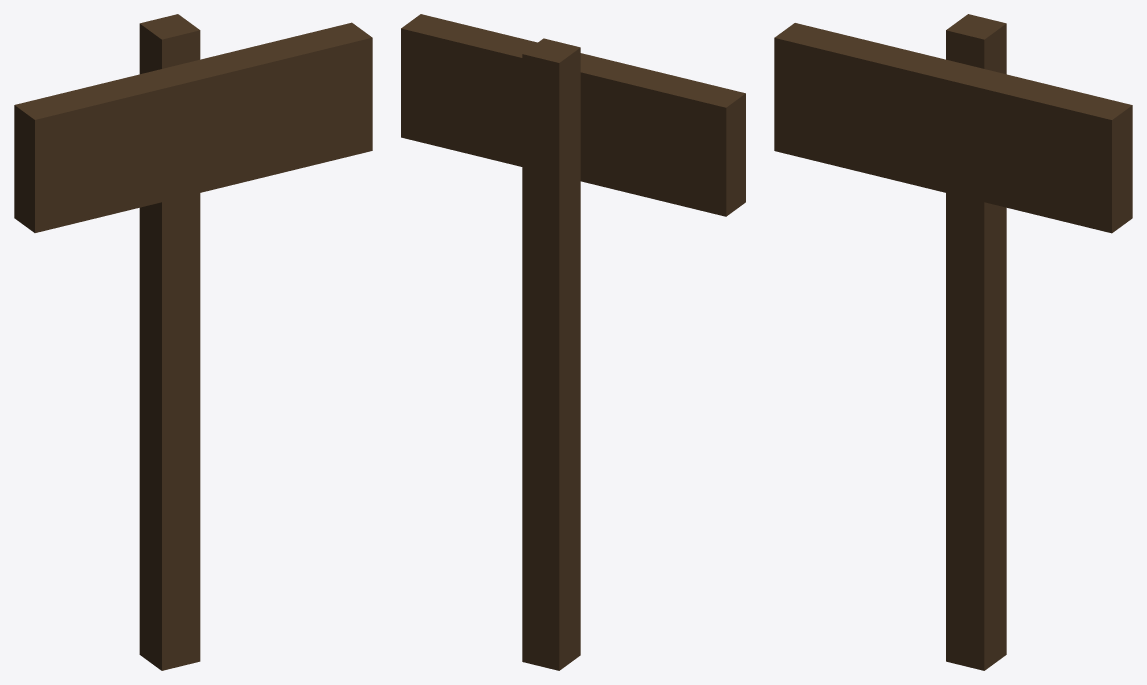
The model's file is signpost.gltf.
3 renders of one model, left to right at view 1: azimuth 30°, elevation 25°; view 2: azimuth 150°, elevation 25°; view 3: azimuth 330°, elevation 25°, orthographic. The views are drawn at different scales.
Parts seen in each view (by area): view 1: Cube; view 2: Cube; view 3: Cube.
Boxes of the visible parts, x1,y1,x2,y2 form: Cube: (14, 14, 372, 670); Cube: (401, 14, 745, 670); Cube: (774, 14, 1132, 670).
Bounding box in the file's own units: 2.44 × 4.36 × 0.5575.
